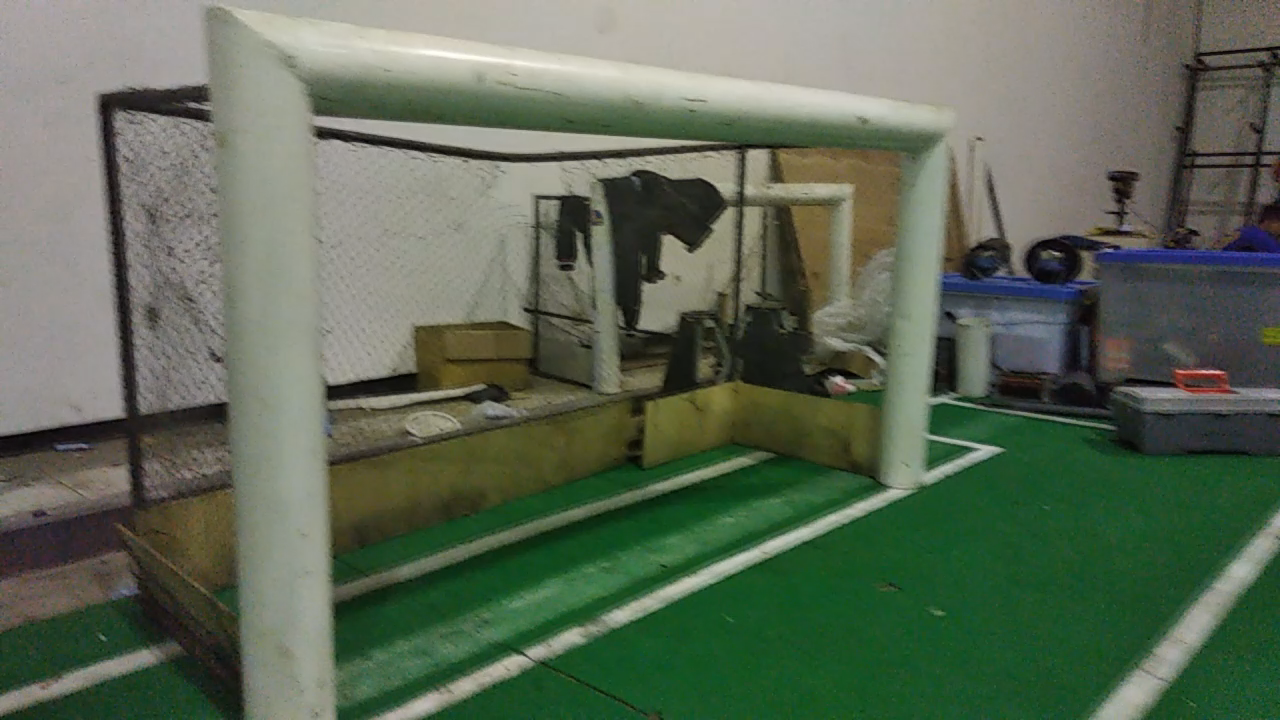gawang: (189, 2, 972, 719)
